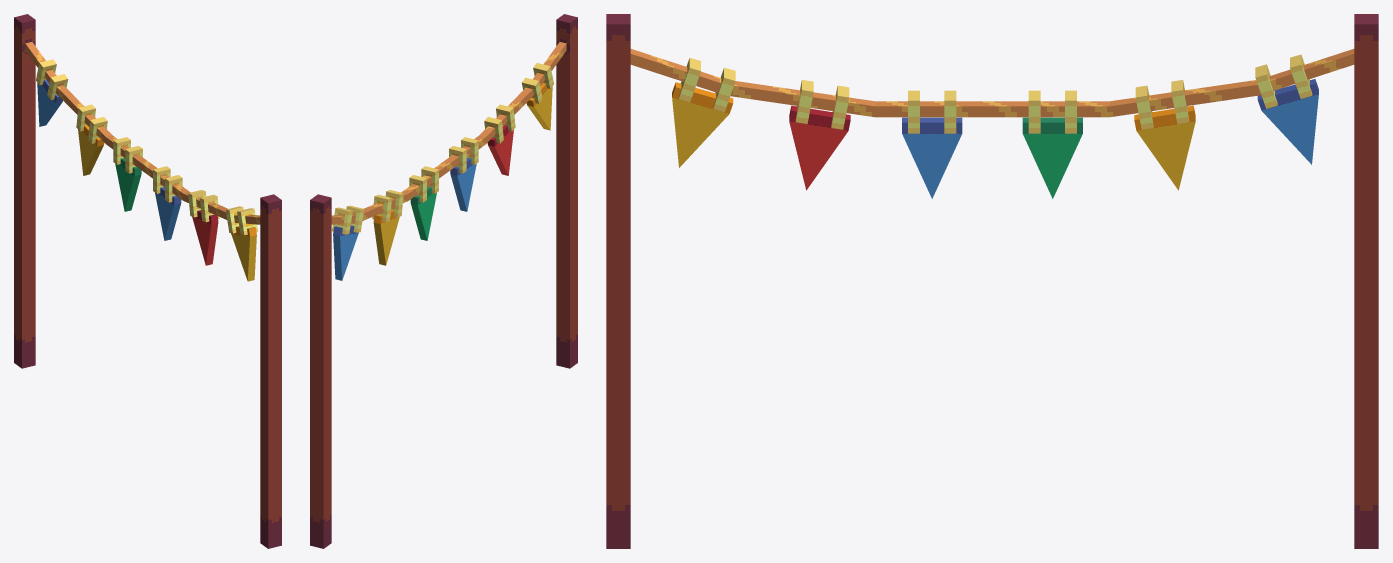
The model's file is Pennants.glb.
3 views of the same model, side by side, from view 1: azimuth 30°, elevation 25°; view 2: azimuth 150°, elevation 25°; view 3: azimuth 270°, elevation 25° (orthographic). The views are drawn at different scales.
Visible parts, largest first — view 1: cube (×2), cuboid (×7); view 2: cube (×2), cuboid (×7); view 3: cube (×2), cuboid (×7).
Part boxes in pixels (x1=…): cube (×2): x1=14, y1=14, x2=281, y2=548; cuboid (×7): x1=25, y1=42, x2=260, y2=281; cube (×2): x1=310, y1=14, x2=577, y2=548; cuboid (×7): x1=331, y1=42, x2=566, y2=280; cube (×2): x1=606, y1=14, x2=1378, y2=548; cuboid (×7): x1=630, y1=49, x2=1354, y2=198.
Size of the model in its own units: 0.125 by 3 by 4.
Materials: 5 (5 with a texture image).
